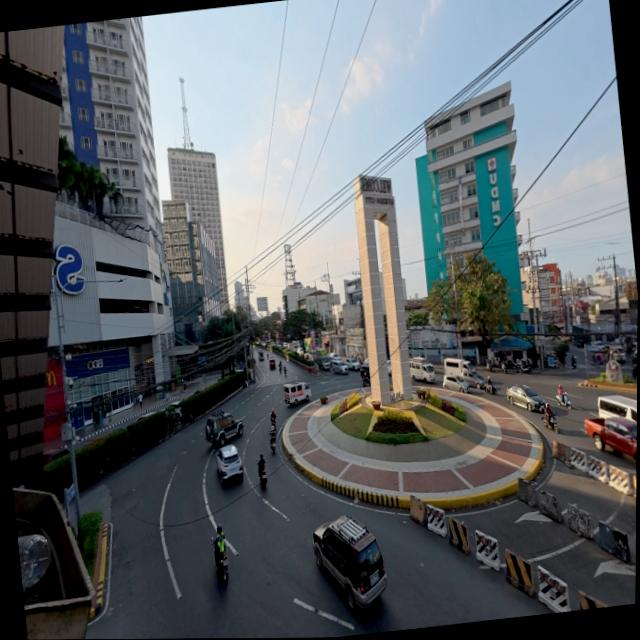Jeepneys: (257, 349, 262, 361)
car: (312, 515, 386, 608), (204, 410, 243, 446), (216, 444, 242, 485), (505, 385, 544, 412), (42, 447, 68, 465), (442, 376, 468, 393), (462, 370, 485, 388), (165, 401, 181, 419), (609, 347, 625, 363), (331, 360, 347, 374), (359, 364, 369, 386), (135, 411, 155, 422), (344, 358, 359, 370), (590, 341, 603, 351), (267, 356, 276, 370), (631, 364, 636, 382), (329, 353, 340, 360), (386, 360, 391, 375), (295, 348, 302, 355), (362, 358, 368, 365), (281, 343, 287, 349)
motorcycle: (216, 551, 228, 581), (542, 413, 558, 433), (555, 392, 570, 409), (500, 358, 517, 372), (518, 359, 532, 374), (485, 357, 497, 372), (257, 469, 265, 488), (484, 383, 496, 395), (270, 433, 276, 454), (571, 357, 575, 370), (283, 367, 285, 376)
trucks: (585, 418, 636, 461), (314, 348, 332, 371)
vans: (597, 395, 636, 422), (409, 358, 434, 383), (283, 382, 310, 404), (443, 359, 473, 376)
